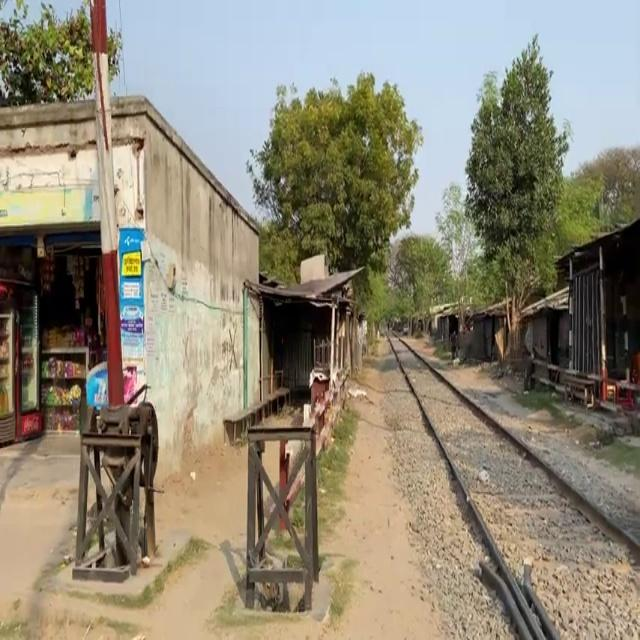Garbage: (70, 383, 160, 582), (243, 423, 319, 612)
Obstacle: (383, 325, 639, 639)
